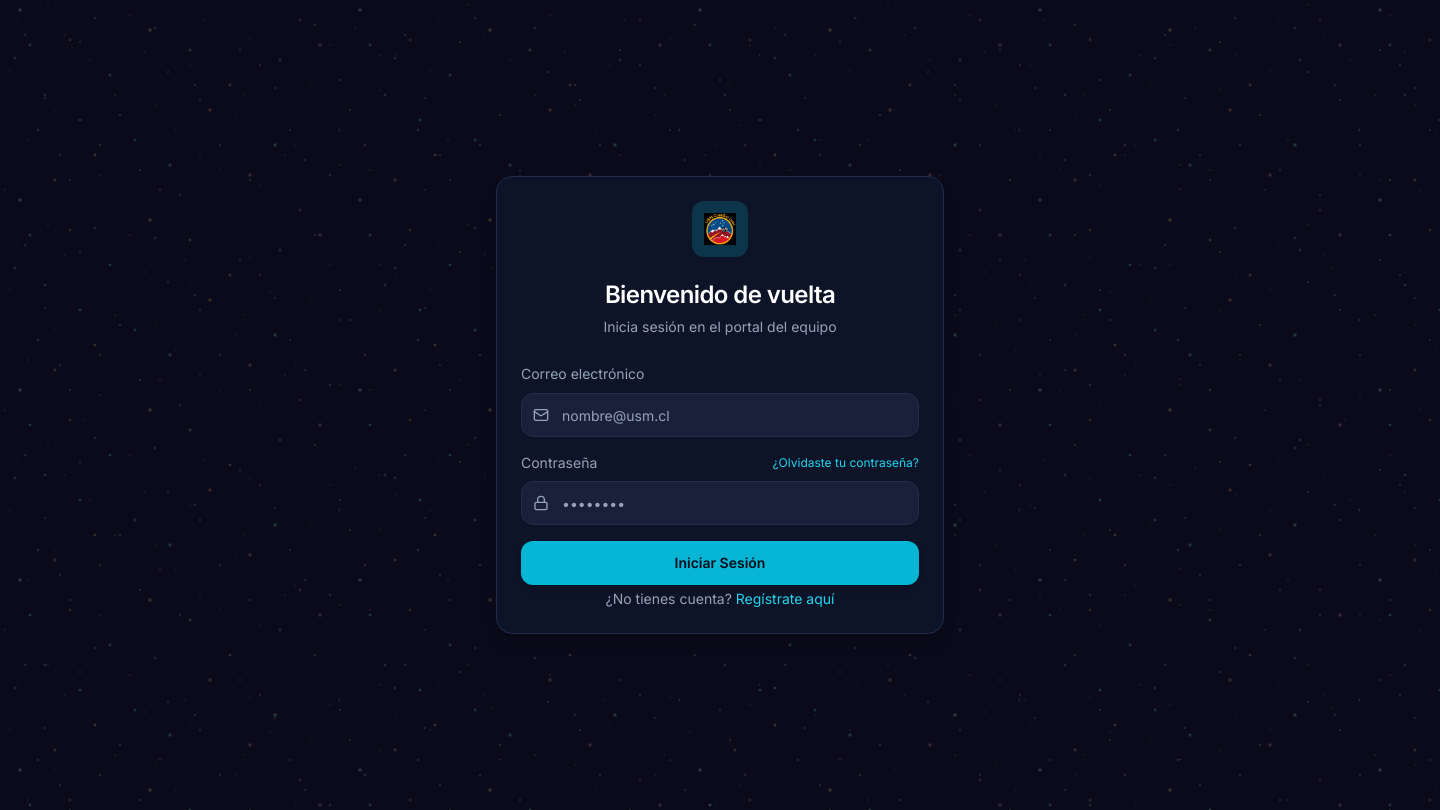
it: Login › shows specific error for invalid credentials
The width and height of the screenshot is (1440, 810).
Type "test.usuario@sansano.usm.cl" into the field with placeholder "nombre@usm.cl" at (720, 415), box top-left (521, 393), bottom-right (919, 437)
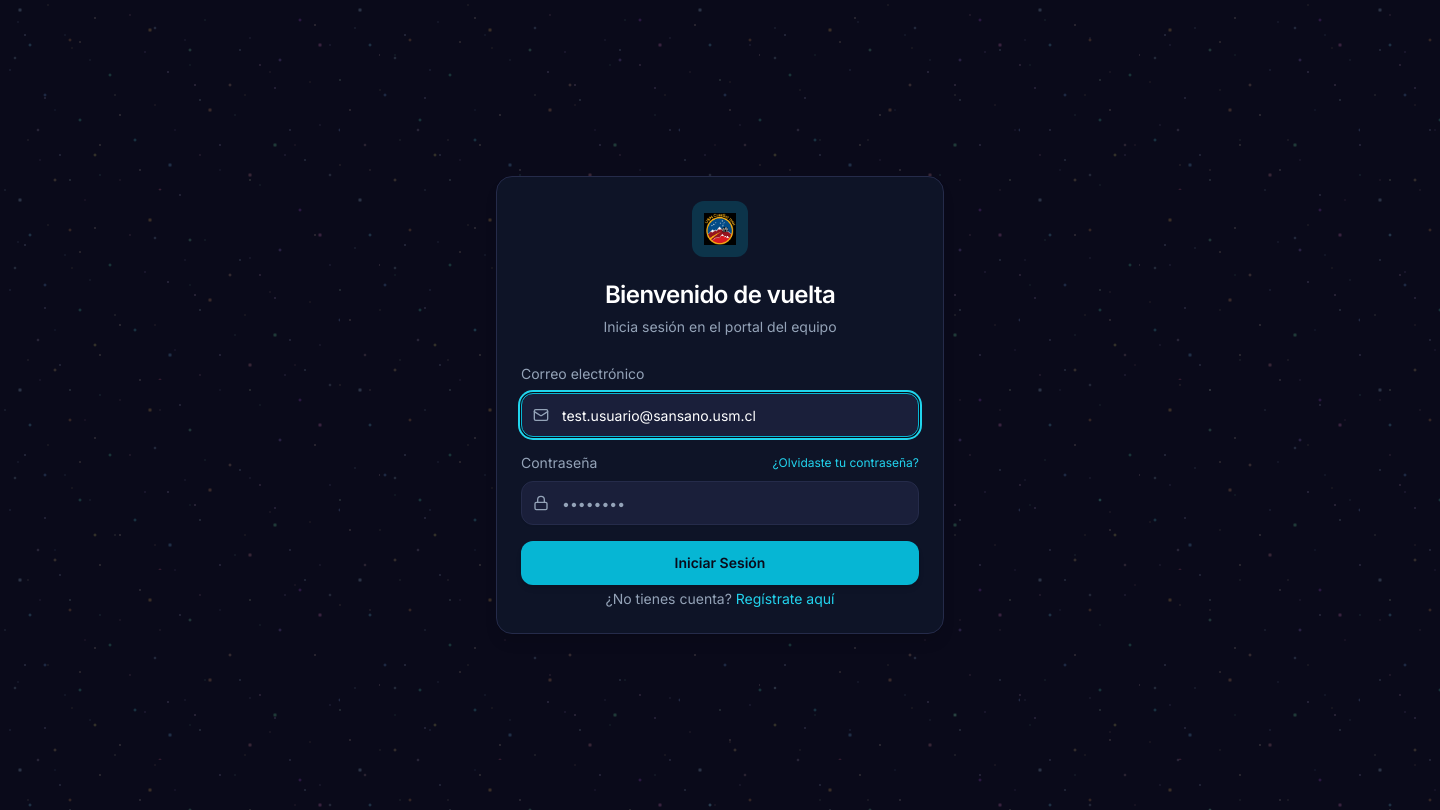
Type "wrongpassword" into the password field with placeholder "••••••••" at (720, 503), box top-left (521, 481), bottom-right (919, 525)
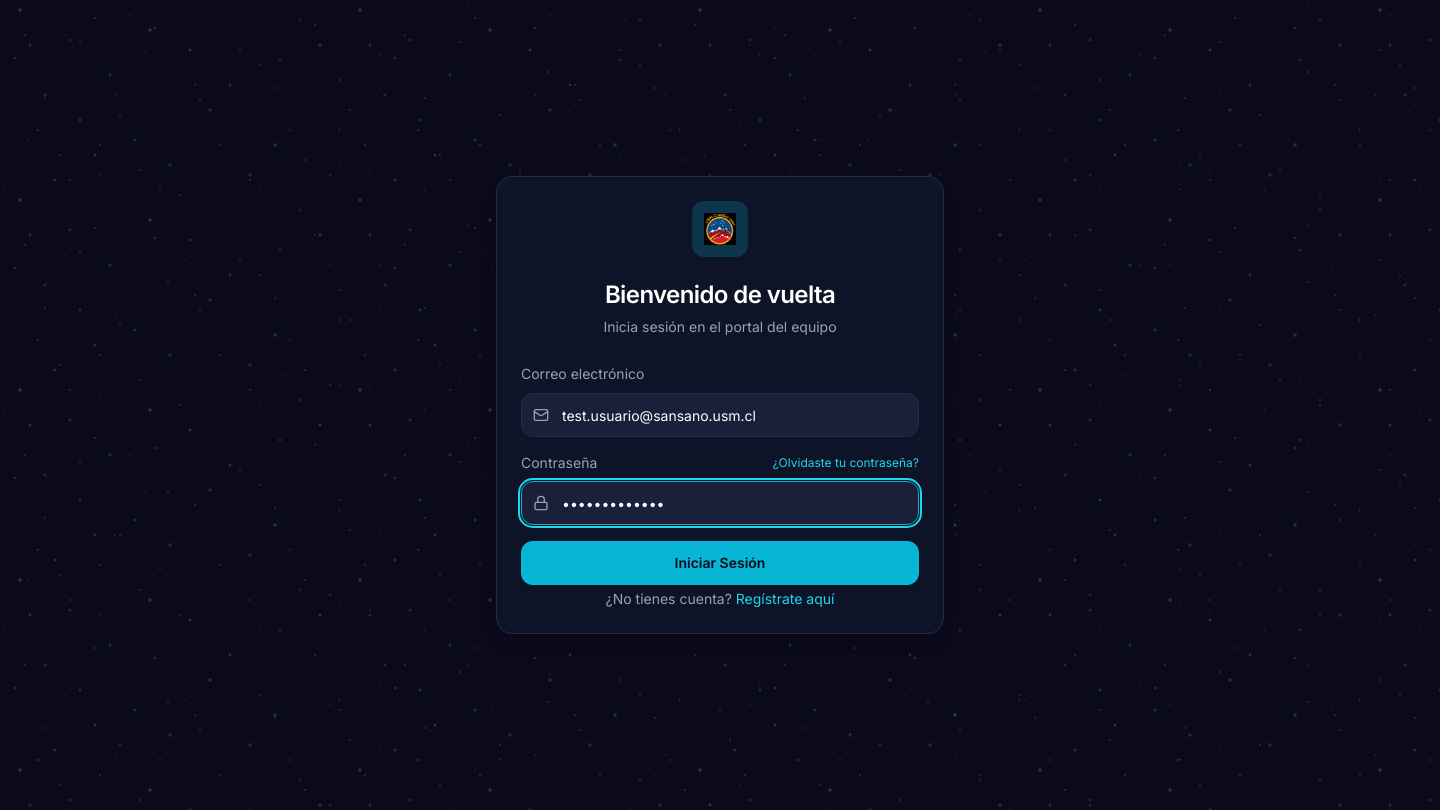
Click the button "Iniciar Sesión" at (720, 563), box top-left (521, 541), bottom-right (919, 585)
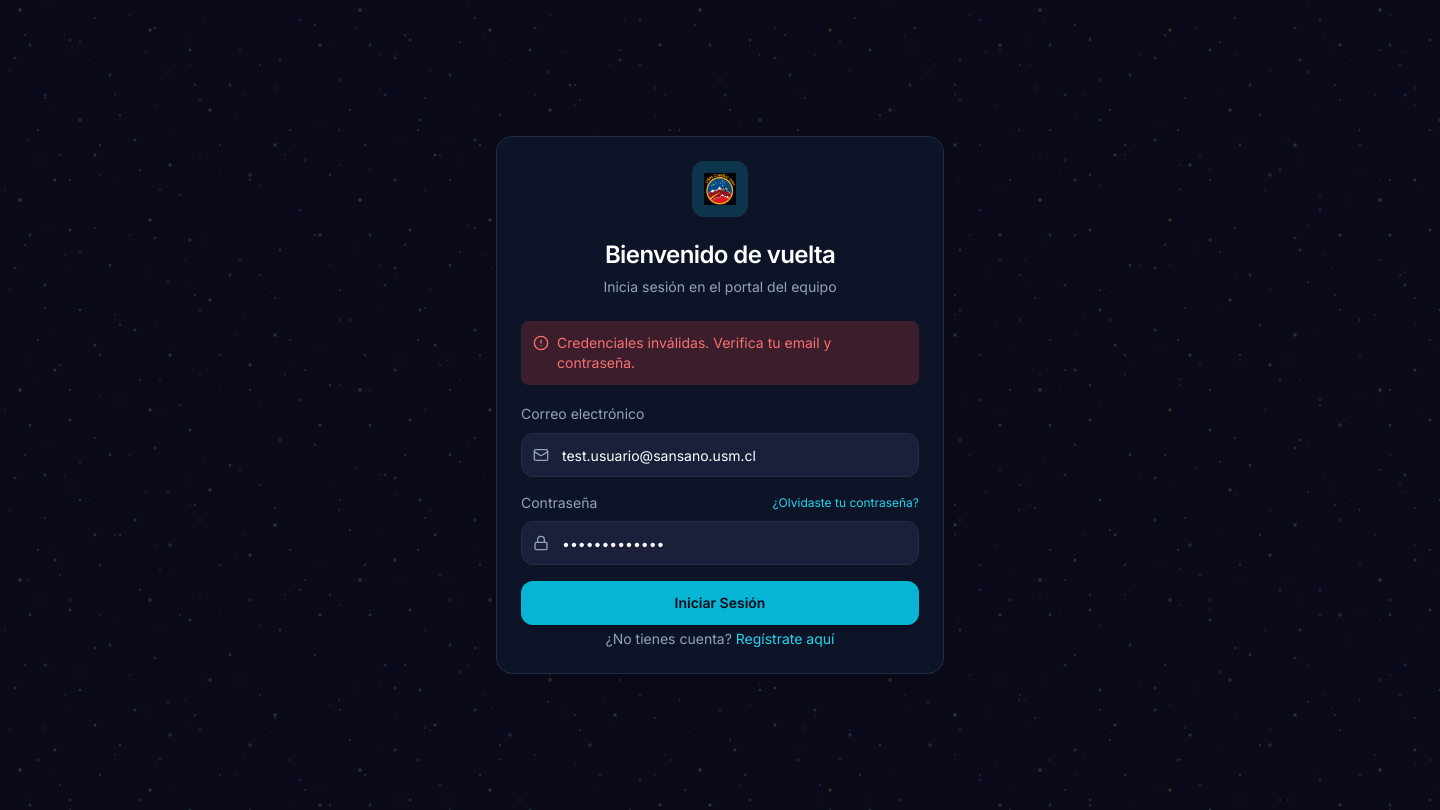
Now the text "Credenciales inválidas. Verifica tu email y contraseña." is shown, box top-left (557, 334), bottom-right (831, 371)
